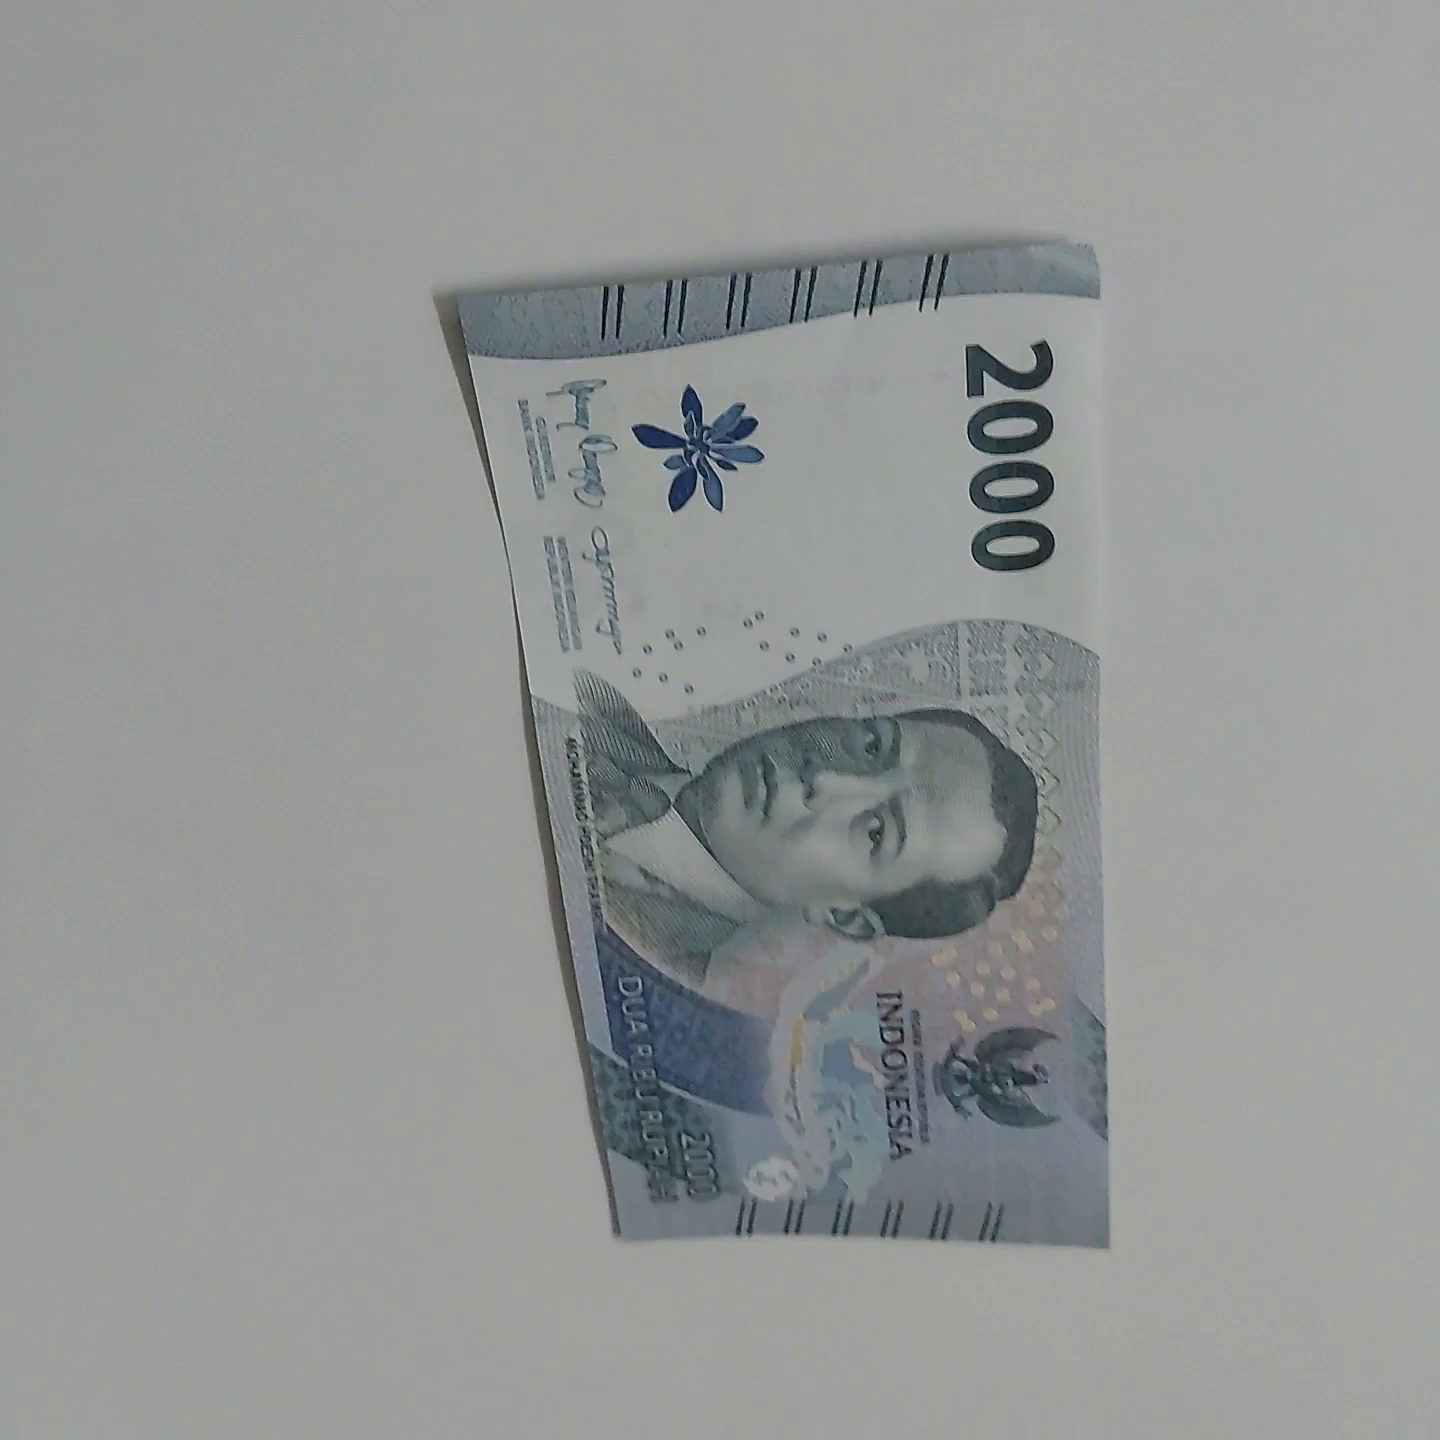2k: (434, 235, 1168, 1280)
